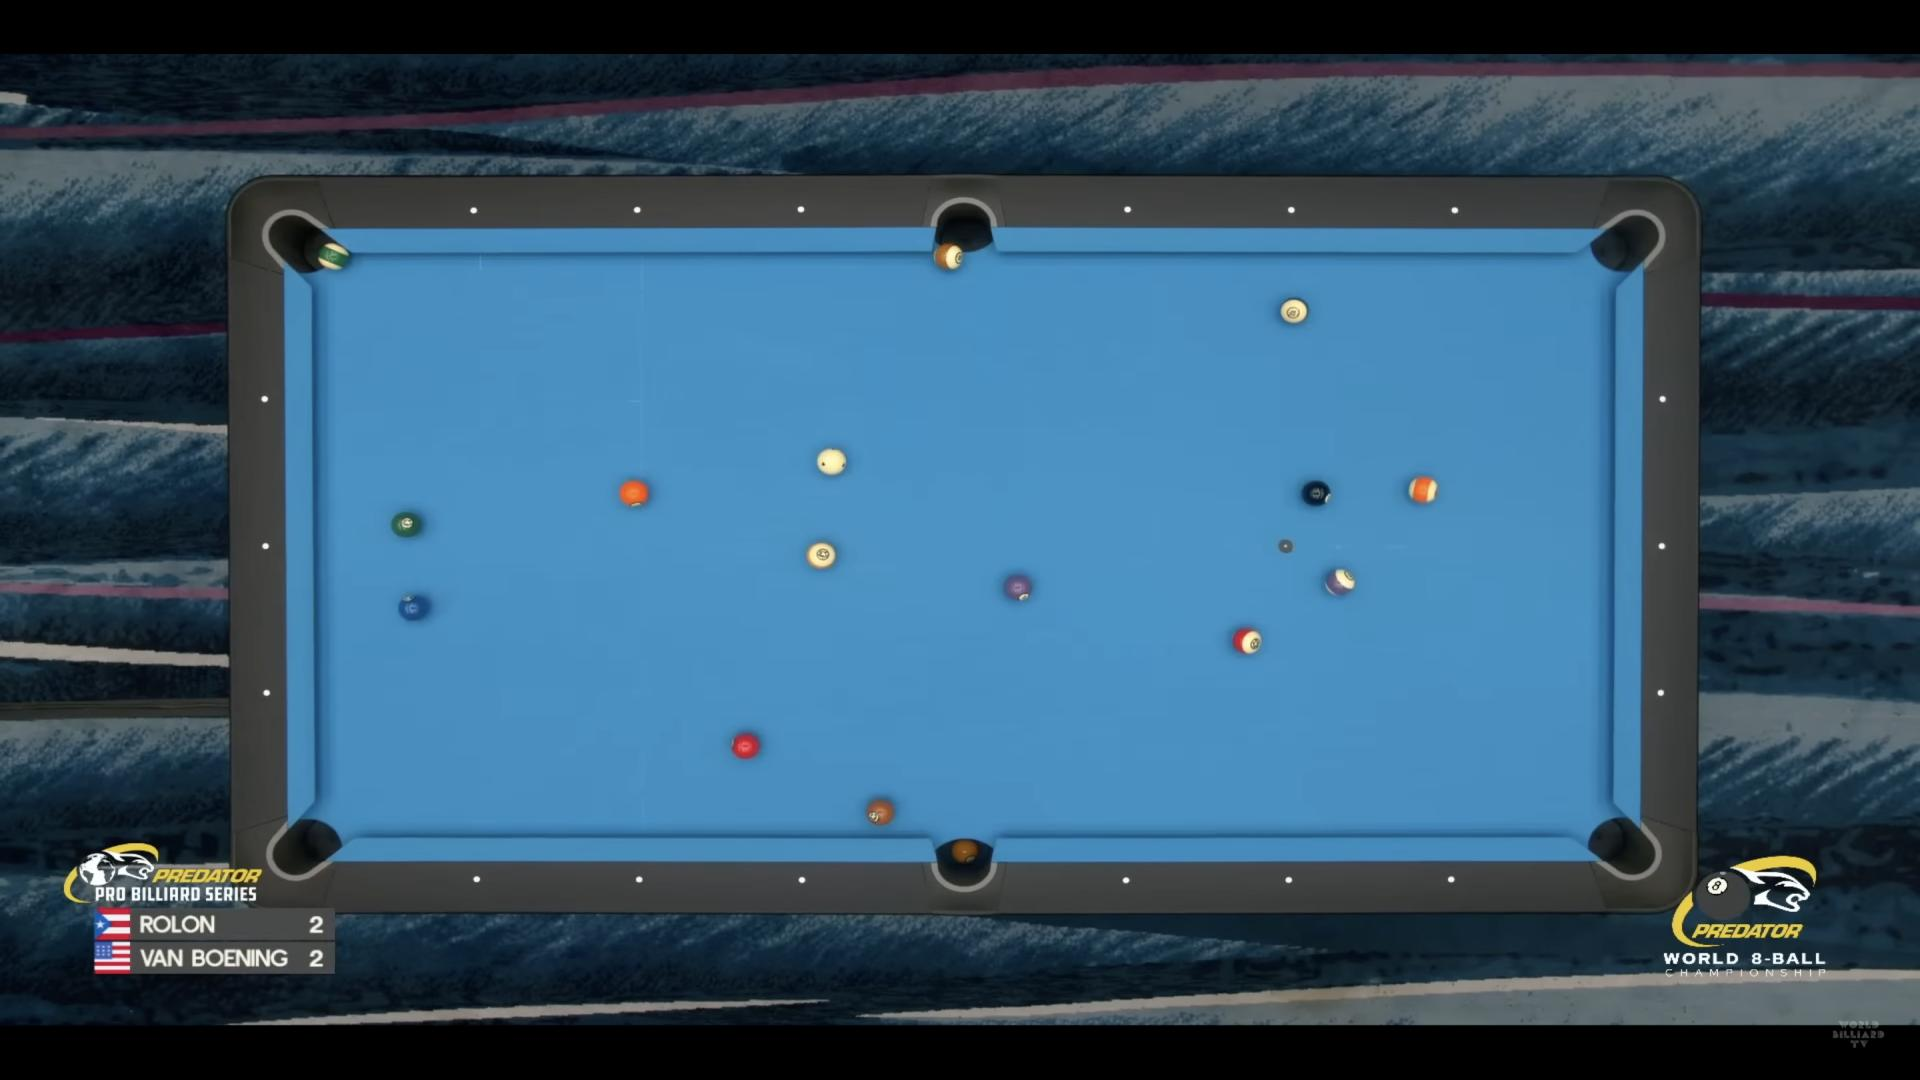Black: (1302, 481, 1332, 506)
Cue: (816, 448, 847, 475)
Dot: (1654, 538, 1672, 554), (1652, 392, 1671, 407), (1651, 687, 1668, 703), (258, 684, 273, 698), (258, 538, 273, 551), (258, 393, 272, 406), (1282, 874, 1295, 886), (1445, 874, 1458, 886), (1120, 876, 1131, 887), (1122, 204, 1134, 215), (1286, 204, 1298, 214), (1451, 206, 1461, 215), (472, 876, 483, 885), (468, 206, 479, 215), (632, 204, 641, 214), (796, 204, 806, 214), (636, 876, 645, 884), (798, 876, 807, 884)
Solid: (398, 595, 429, 621), (731, 733, 760, 760), (620, 480, 649, 506), (1005, 575, 1033, 601), (866, 799, 894, 825), (392, 513, 419, 538)
Striped: (318, 243, 349, 270), (1325, 568, 1356, 596), (1408, 476, 1437, 504), (934, 243, 963, 270), (807, 542, 836, 570), (1233, 629, 1262, 654), (1280, 298, 1308, 323)
